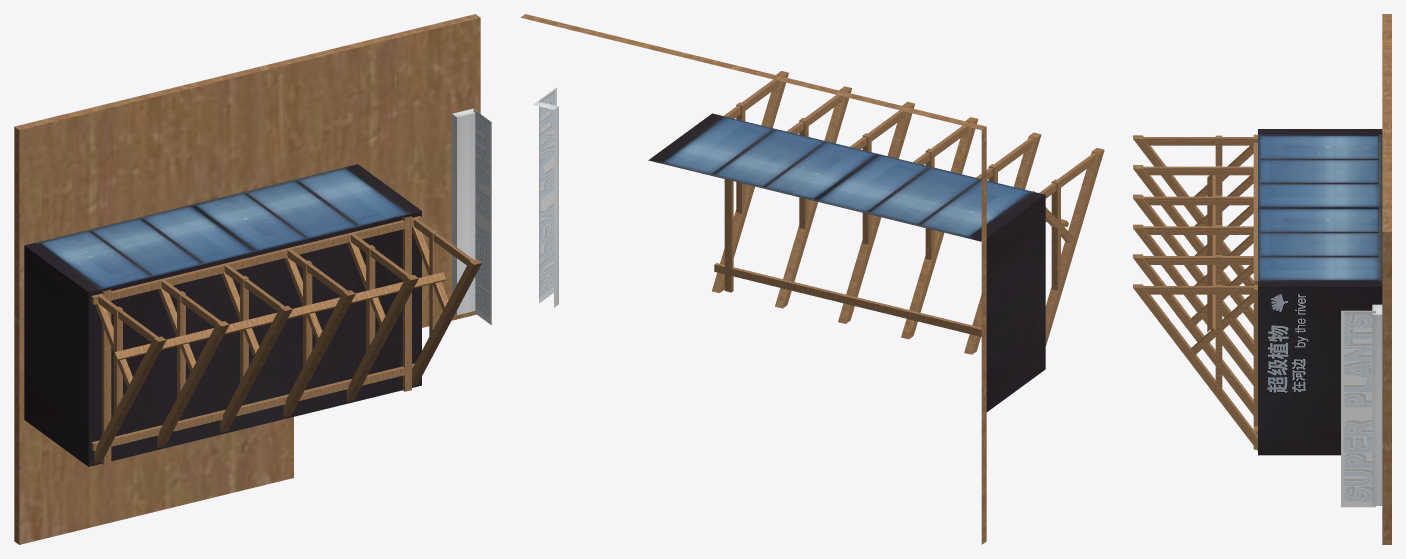
The model's file is sgy_ydhj_02.gltf.
The picture shows the model from 3 angles, left to right: view 1: azimuth 30°, elevation 25°; view 2: azimuth 150°, elevation 25°; view 3: azimuth 270°, elevation 25°; orthographic projection. The views are drawn at different scales.
Parts seen in each view (by area): view 1: Box008; view 2: Box008; view 3: Box008.
Part boxes in pixels (box(x1,y1,x2,y2)): Box008: box(14, 14, 491, 544); Box008: box(521, 14, 1104, 544); Box008: box(1133, 14, 1391, 544).
Bounding box in the file's own units: 16.6 × 14.26 × 8.34.
4 materials, 4 textured.
